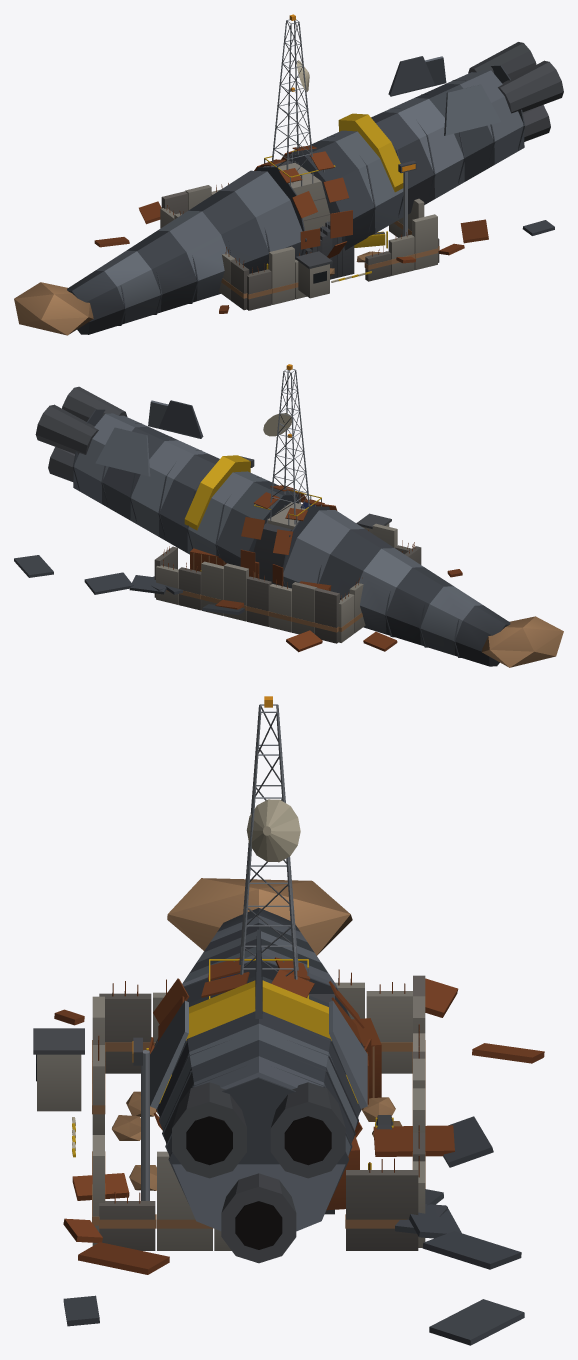
Rendered from sites_meridian.glb.
3 renders of one model, top to bottom at view 1: azimuth 30°, elevation 25°; view 2: azimuth 150°, elevation 25°; view 3: azimuth 270°, elevation 25°, orthographic. The views are drawn at different scales.
Parts seen in each view (by area): view 1: m_hull, m_depot, m_relay; view 2: m_hull, m_depot, m_relay; view 3: m_hull, m_depot, m_relay.
Boxes of the visible parts, x1,y1,x2,y2 form: m_hull: (14, 42, 563, 335); m_depot: (160, 160, 439, 310); m_relay: (263, 19, 387, 279); m_hull: (14, 386, 563, 667); m_depot: (154, 456, 421, 643); m_relay: (200, 369, 321, 585); m_hull: (54, 878, 544, 1345); m_depot: (33, 969, 425, 1250); m_relay: (146, 704, 371, 1214).
Size of what is drawn, in the model's own units: 47.05 by 22.63 by 20.74.
